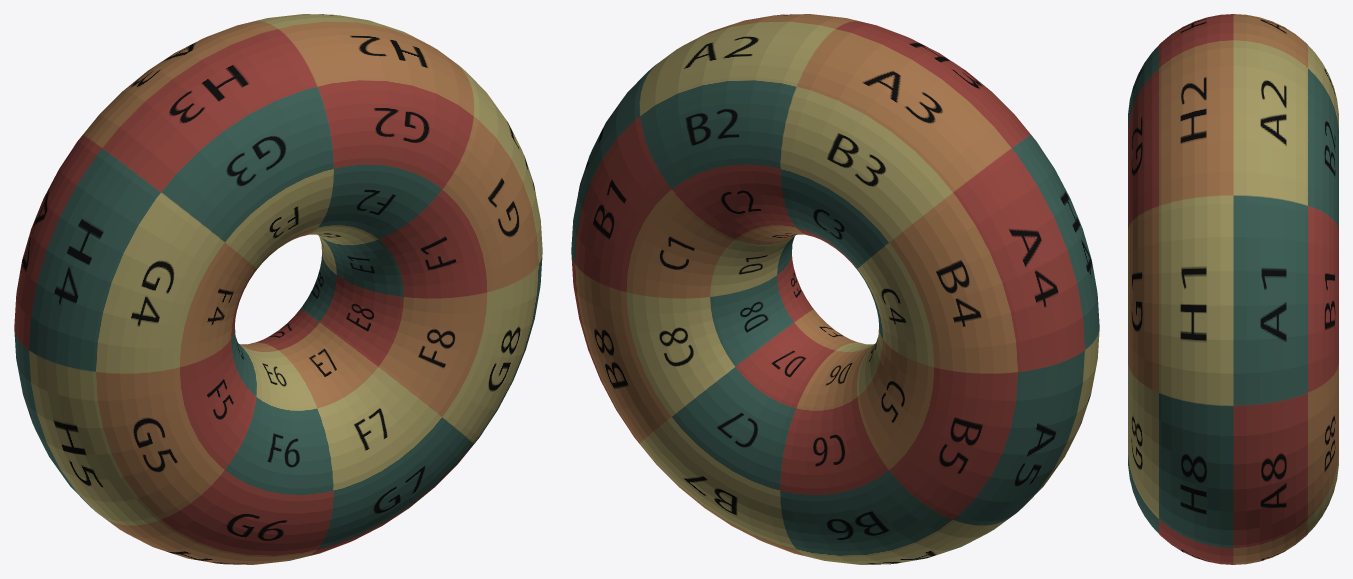
Rendered from texture_torus_R4_r22.glb.
3 renders of one model, left to right at view 1: azimuth 30°, elevation 25°; view 2: azimuth 150°, elevation 25°; view 3: azimuth 270°, elevation 25°, orthographic. The views are drawn at different scales.
Visible parts, largest first — view 1: world; view 2: world; view 3: world.
Boxes of the visible parts, x1=… form: world: x1=14, y1=14, x2=542, y2=564; world: x1=571, y1=14, x2=1099, y2=564; world: x1=1128, y1=14, x2=1338, y2=564.
Size of the model in its own units: 20.53 by 20.49 by 7.85.
Materials: 1 (1 with a texture image).
